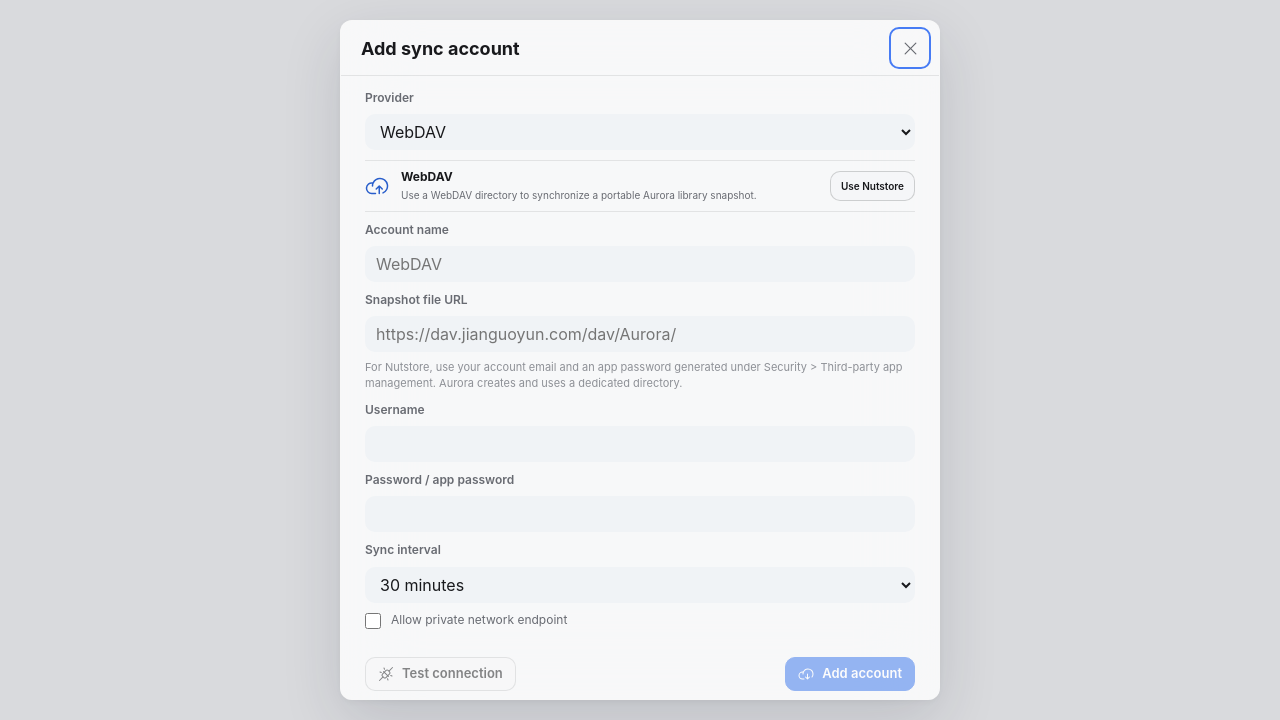
SyncAccountDialog › explains Nutstore application passwords after an HTTP 401
This screenshot has width=1280, height=720.
In the field labelled "Snapshot file URL": point(640, 334) x1=365 y1=316 x2=915 y2=352, type "https://dav.jianguoyun.com/dav/"
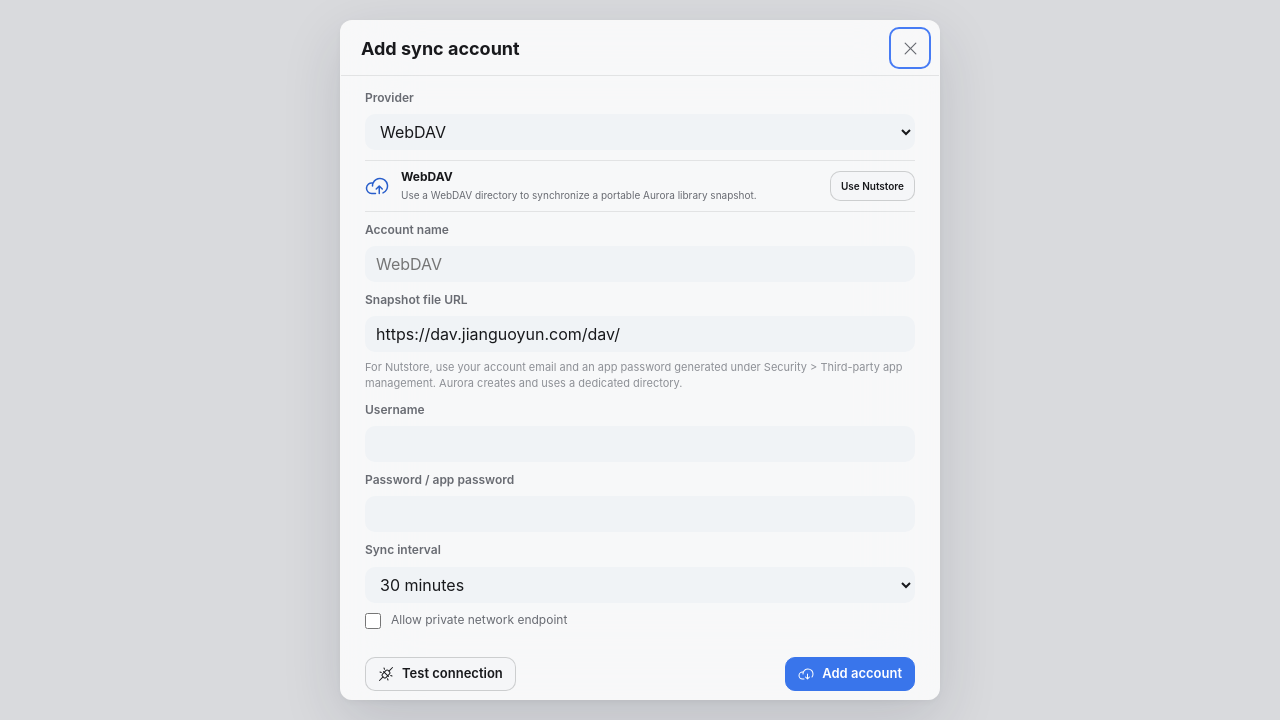
Click the button "Test connection": point(440, 674) x1=365 y1=656 x2=516 y2=690
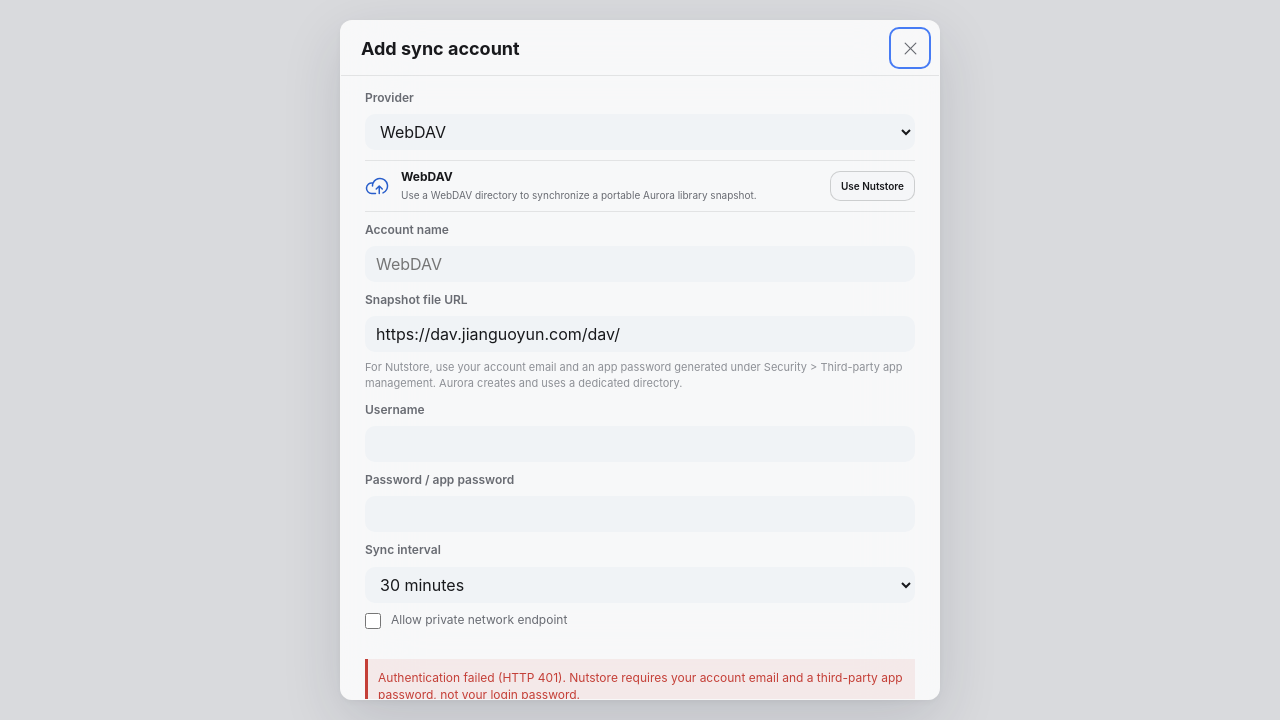
Expected: the message shows "Nutstore requires your account email and a third-party app password", x1=378 y1=670 x2=903 y2=700
